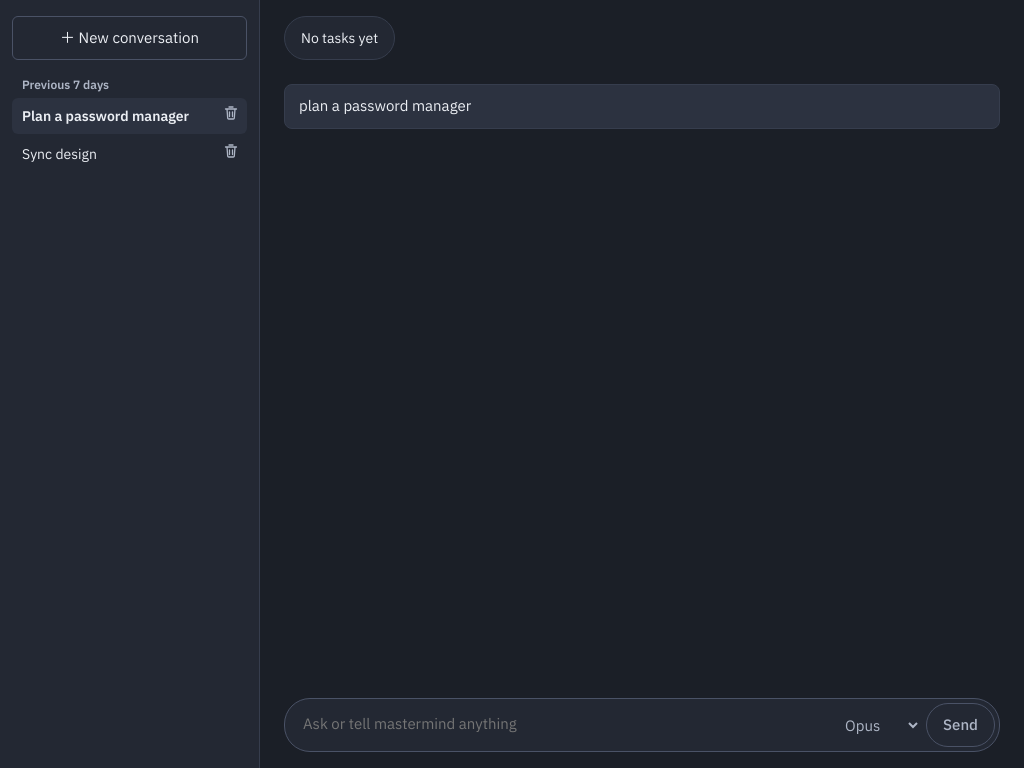
chat screen › lists the conversations in the sidebar, opens an earlier one and starts a new one
Click the button "Sync design".
click(114, 154)  # box [12,136,215,172]
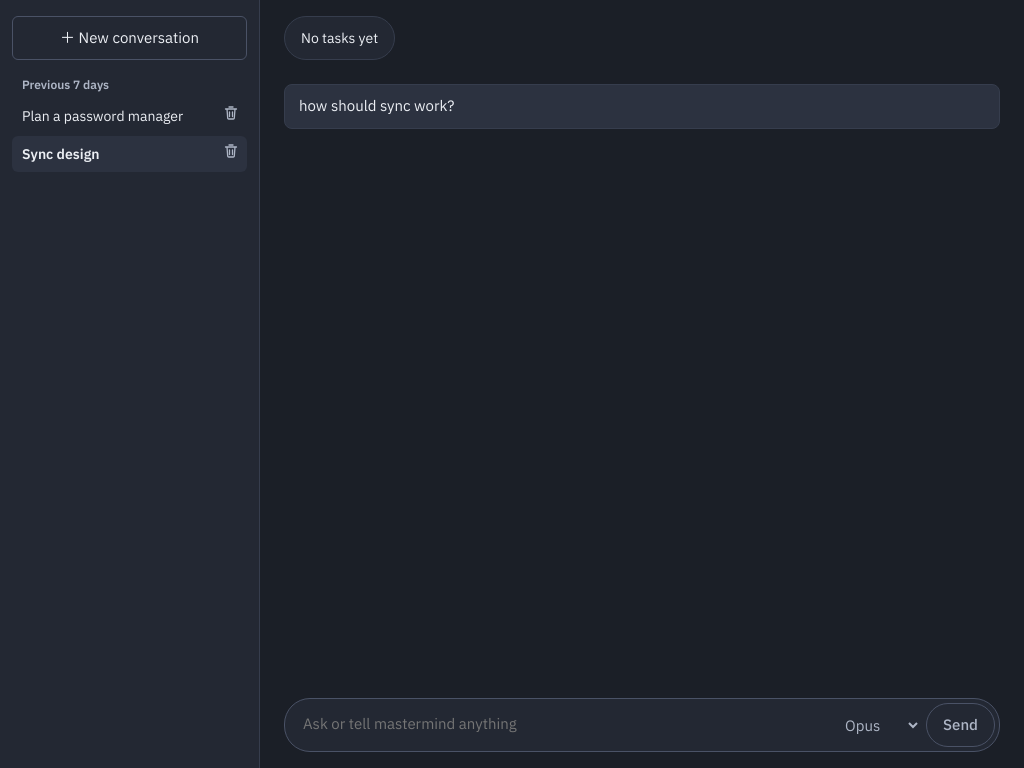
Check: the element showing "how should sync work?" is shown, box [284,84,1000,128]
Check: the text "plan a password manager" is gone
Click the button "＋ New conversation".
click(130, 38)  # box [12,16,247,60]
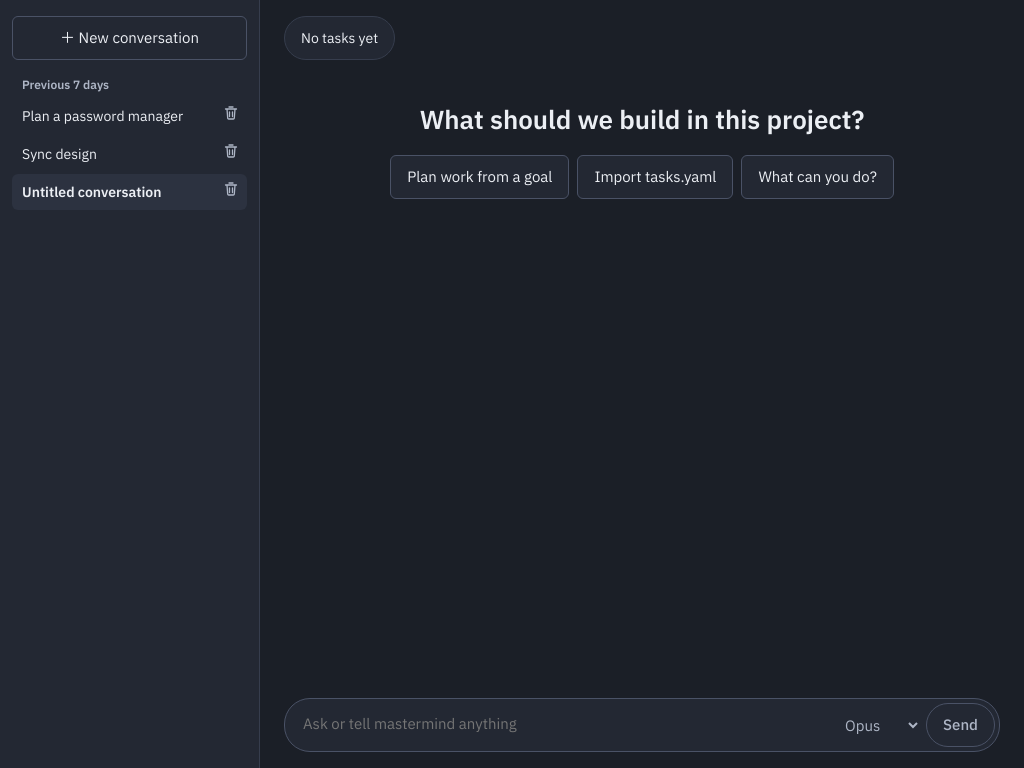
Check: the heading "What should we build in this project?" is shown, box [420,102,864,136]
